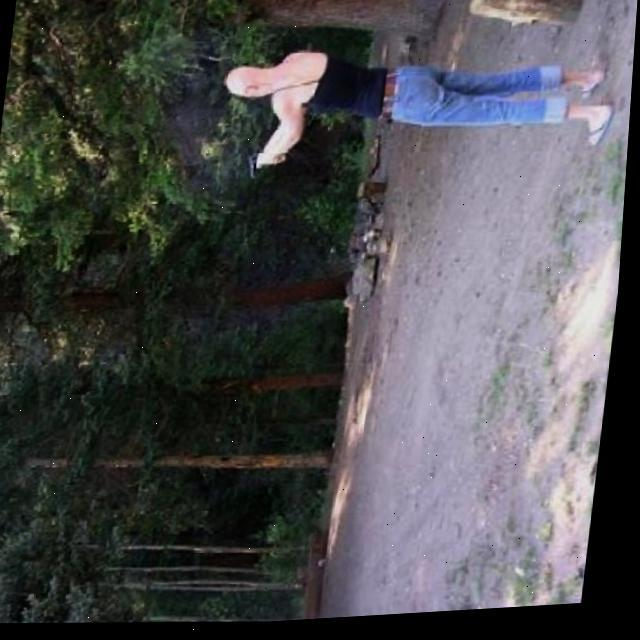gun: (244, 152, 282, 185)
